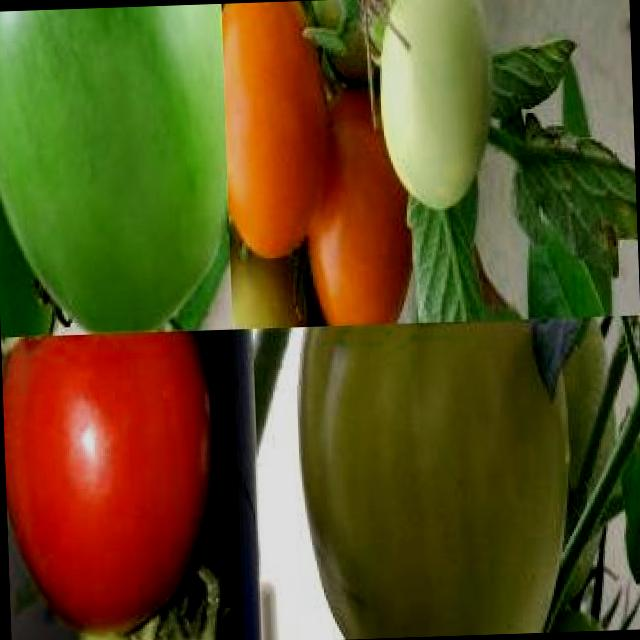Fresh_Tomato: (0, 330, 218, 637), (221, 0, 332, 261), (304, 80, 418, 327), (228, 212, 306, 330)
